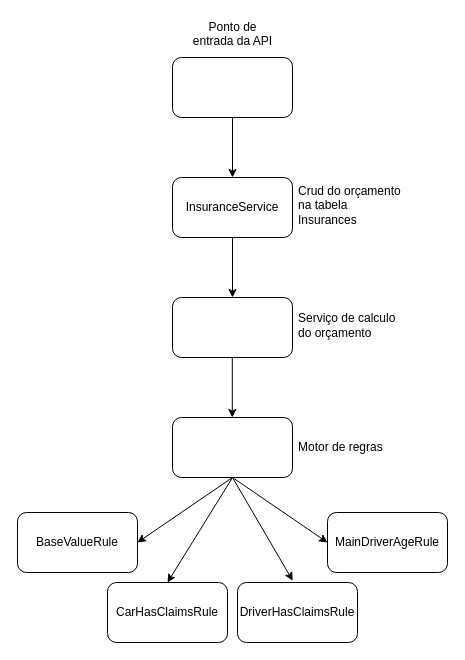
Some shapes in this 465 by 660 pixel diagram are drawn without their labels. The shapes that lost their labels are listed below. From the top down, each one's box as (x1, y1, x2, y2) in pixels, then its label:
(172, 56, 292, 118): InsuranceController
(172, 296, 292, 358): BudgetService
(172, 416, 292, 478): AbstractInsurance Budget
